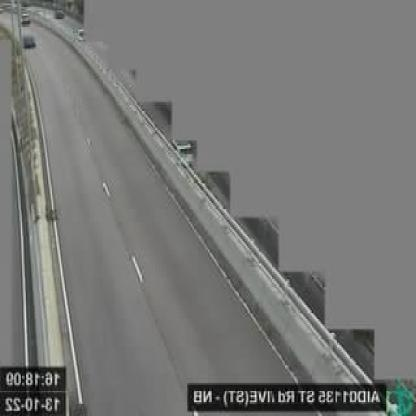Car: (24, 34, 36, 48)
